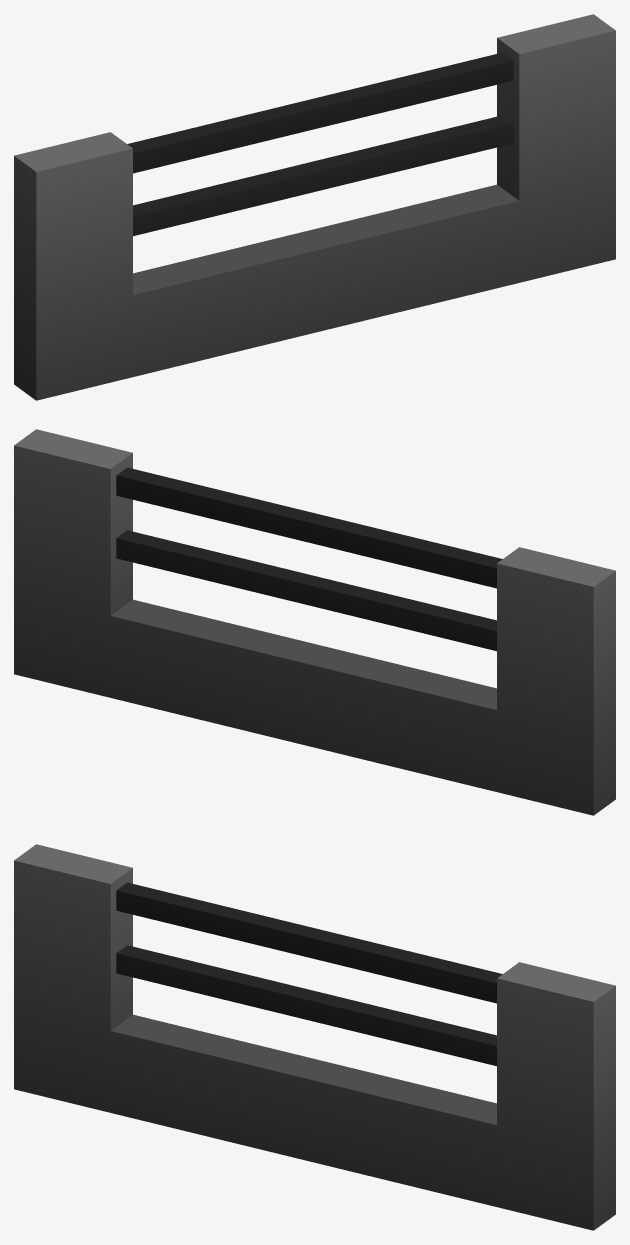
The model's file is PagerK1.fbx.
3 renders of one model, top to bottom at view 1: azimuth 30°, elevation 25°; view 2: azimuth 150°, elevation 25°; view 3: azimuth 330°, elevation 25°, orthographic.
Visible parts, largest first — view 1: PagerK1_LOD0; view 2: PagerK1_LOD0; view 3: PagerK1_LOD0.
Boxes of the visible parts, <box> form: PagerK1_LOD0: <box>14,14,615,400</box>; PagerK1_LOD0: <box>14,429,615,815</box>; PagerK1_LOD0: <box>14,844,615,1230</box>.
Size of what is drawn, in the model's own units: 382 by 144 by 25.49.
